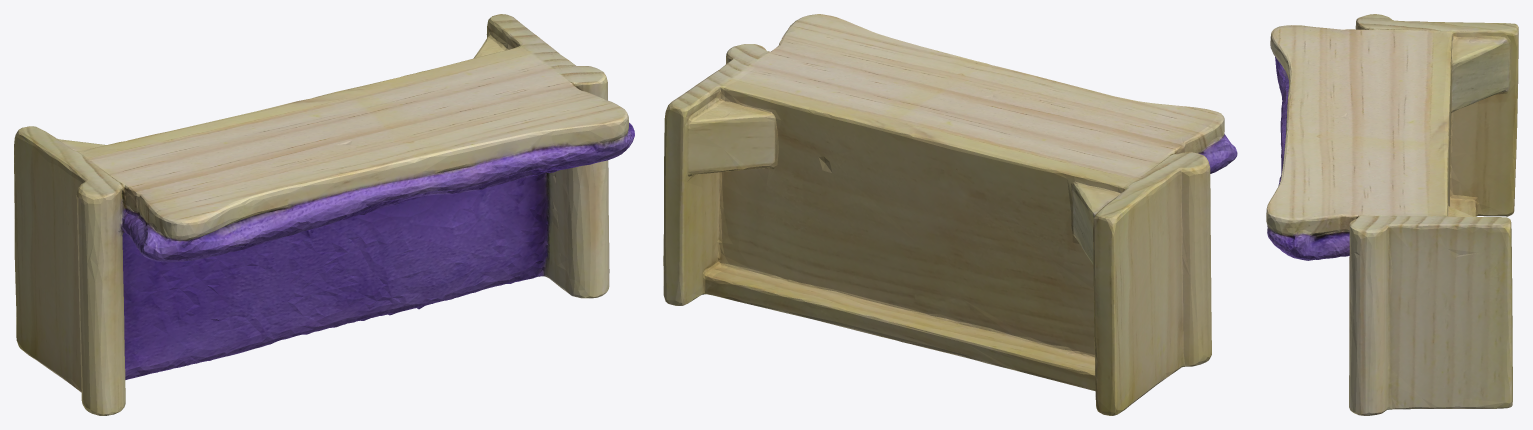
The model's file is sofa.glb.
The picture shows the model from 3 angles, left to right: view 1: azimuth 30°, elevation 25°; view 2: azimuth 150°, elevation 25°; view 3: azimuth 270°, elevation 25°; orthographic projection. The views are drawn at different scales.
Visible parts, largest first — view 1: geometry_0; view 2: geometry_0; view 3: geometry_0.
Boxes of the visible parts, x1=… form: geometry_0: x1=14, y1=14, x2=634, y2=415; geometry_0: x1=663, y1=14, x2=1237, y2=415; geometry_0: x1=1266, y1=14, x2=1518, y2=415.
Bounding box in the file's own units: 1 × 0.4141 × 0.4879.
1 material, 1 textured.
